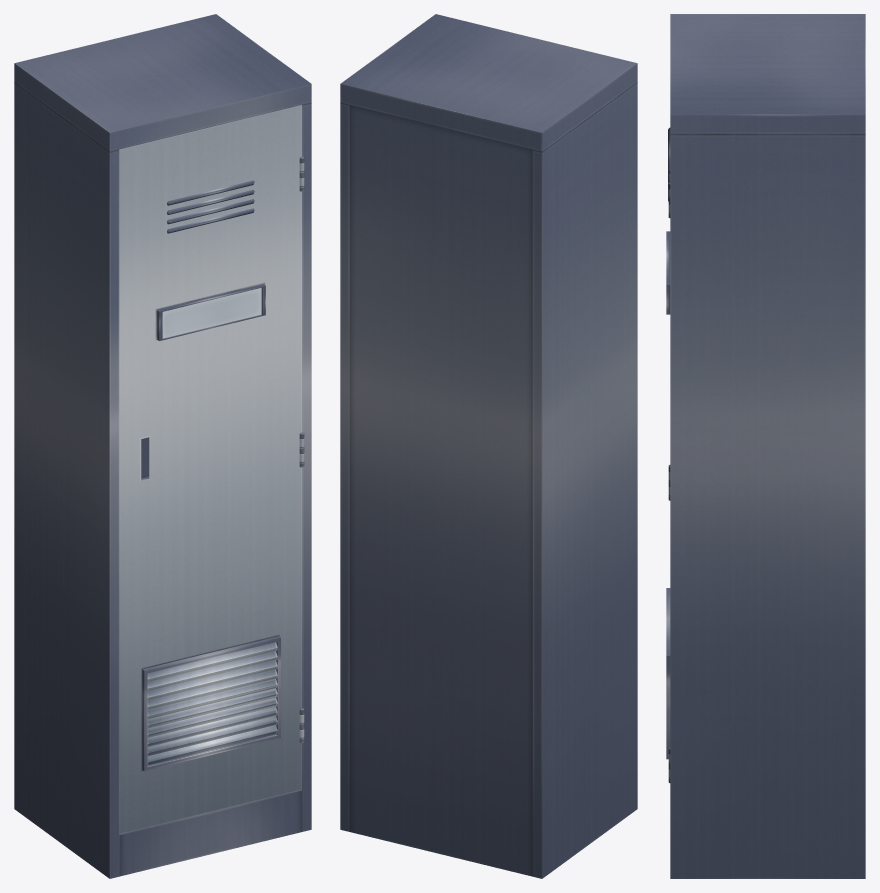
The model's file is Locker_01_01.fbx.
3 views of the same model, side by side, from view 1: azimuth 30°, elevation 25°; view 2: azimuth 150°, elevation 25°; view 3: azimuth 270°, elevation 25° (orthographic). The views are drawn at different scales.
Parts seen in each view (by area): view 1: locker_door_01, locker_01; view 2: locker_01; view 3: locker_01, locker_door_01.
Boxes of the visible parts, left/top/right/bottom form: locker_door_01: left=119, top=105, right=304, bottom=834; locker_01: left=14, top=14, right=311, bottom=878; locker_01: left=340, top=14, right=637, bottom=878; locker_01: left=670, top=14, right=865, bottom=878; locker_door_01: left=666, top=127, right=670, bottom=782.
Size of the model in its own units: 50.82 by 180 by 42.5.
